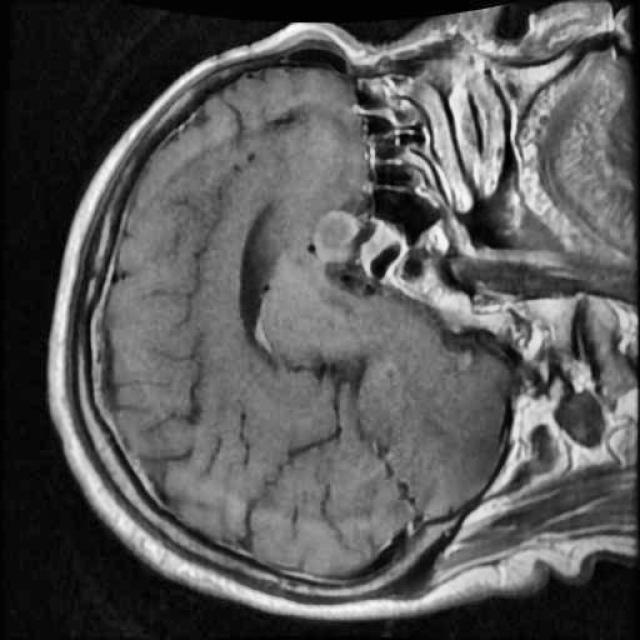Tumor: (299, 189, 378, 285)
